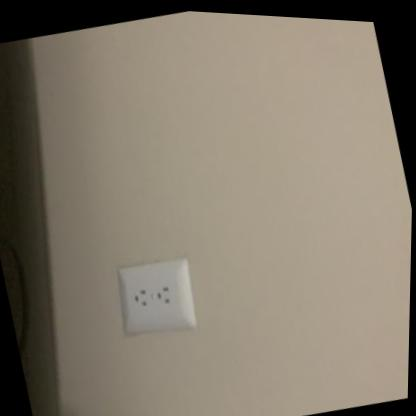OUTLET: (112, 253, 202, 339)
